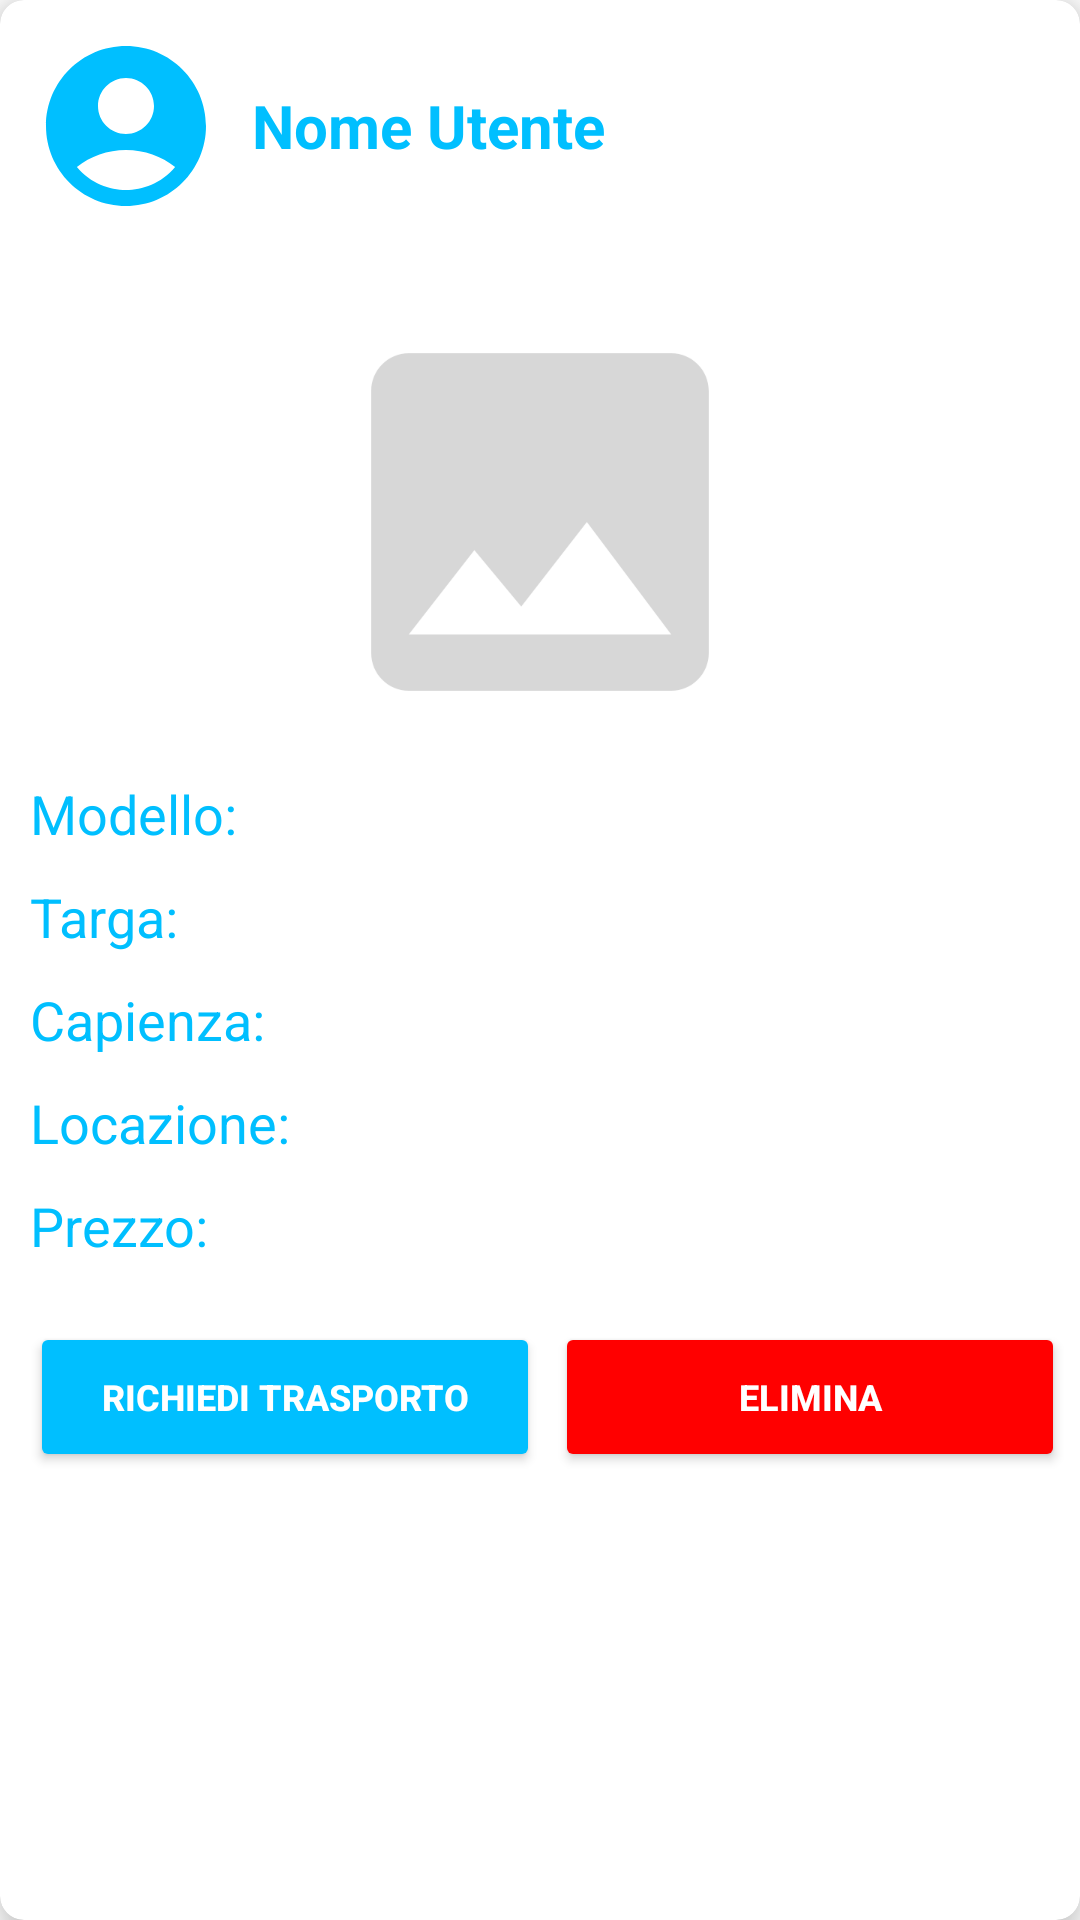

Screen size 1080px×1920px. Icon name, then its box in pixels as (x1,y1,x2,y2):
account circle app theme: (45,46,206,206)
